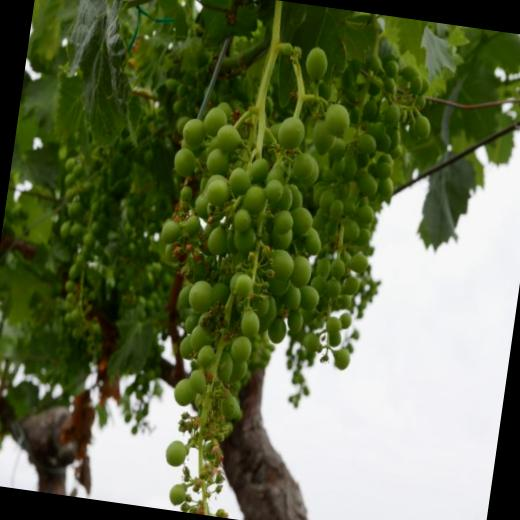Orange: (18, 0, 441, 520)
